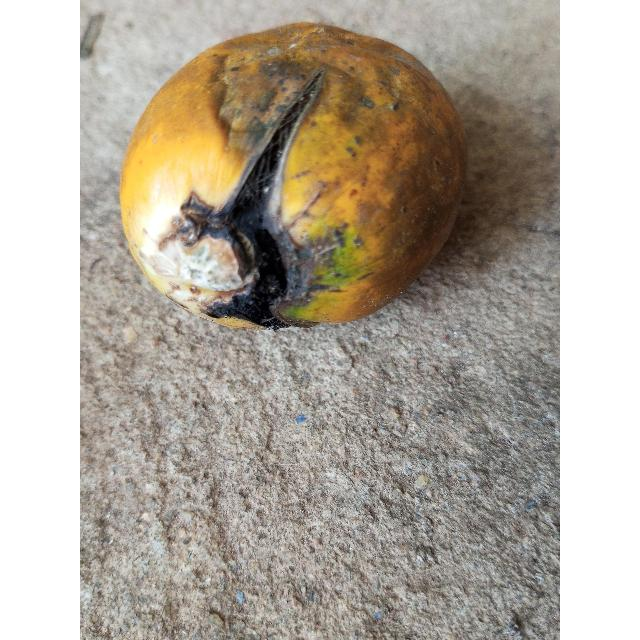damaged: (118, 22, 467, 330)
